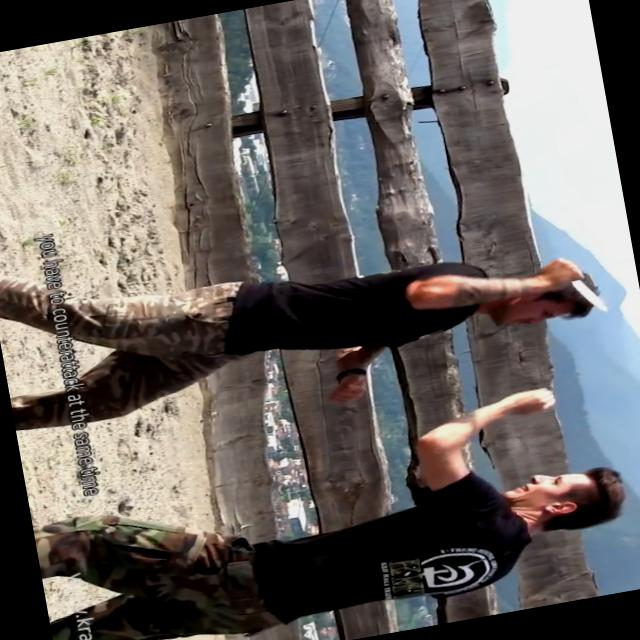knife: (541, 248, 621, 324)
